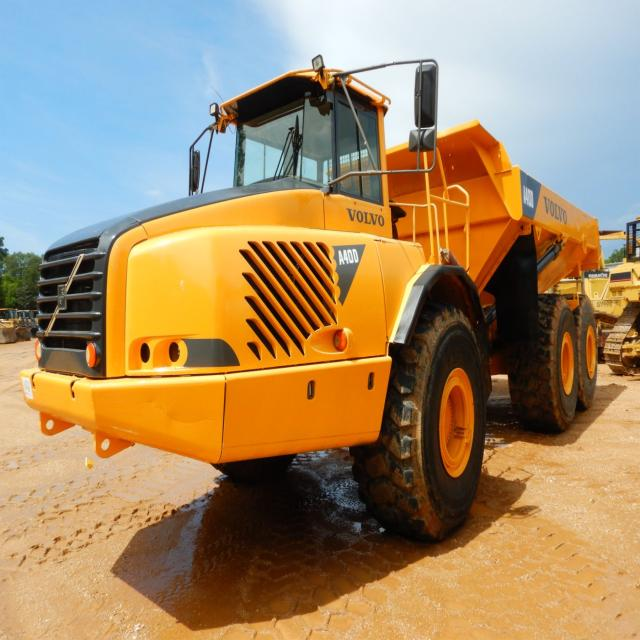dump_truck: (35, 41, 622, 536)
